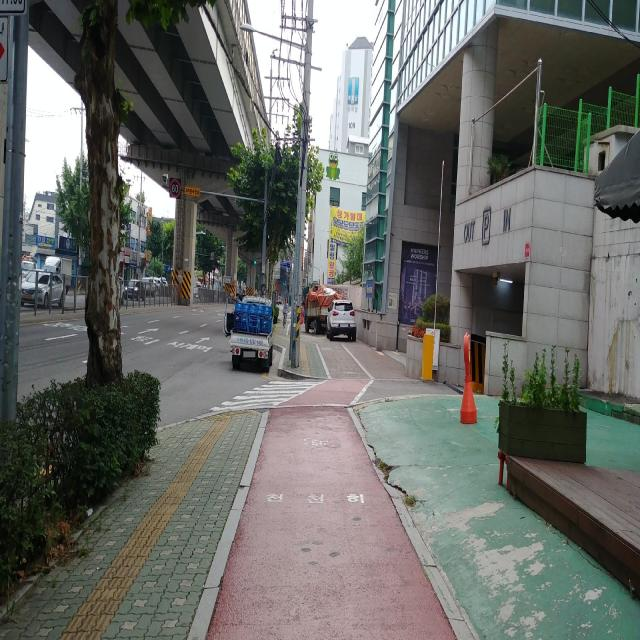횡단보도: (208, 380, 329, 412)
